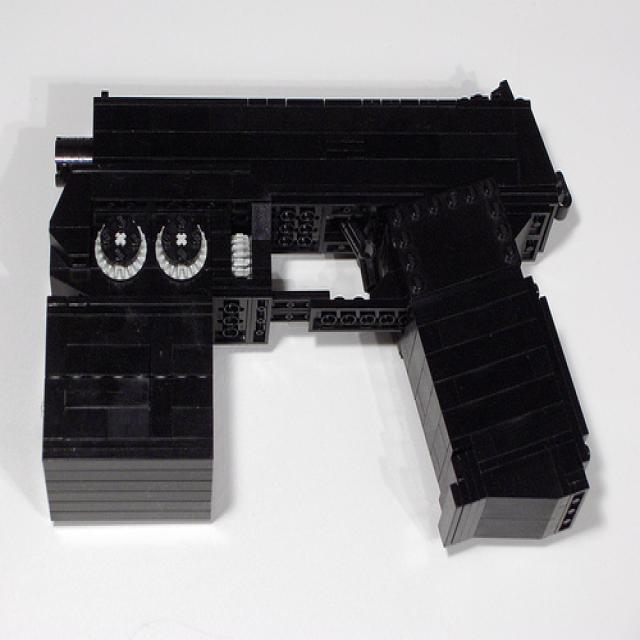gun: (39, 78, 605, 548)
